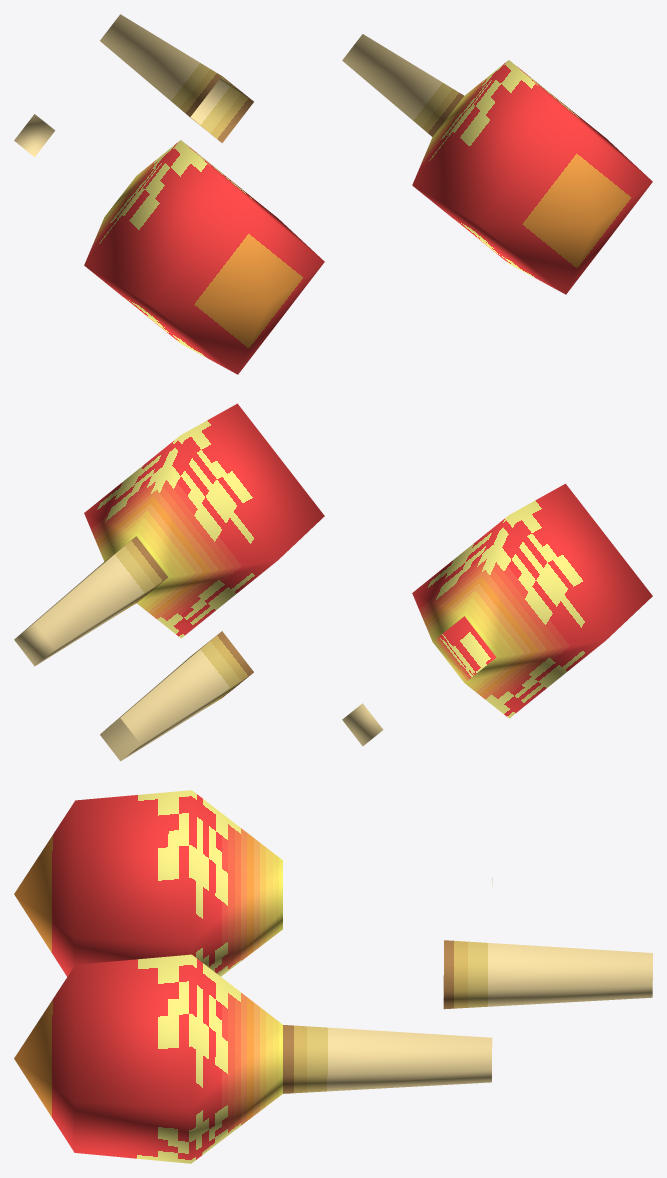
3 renders of one model, top to bottom at view 1: azimuth 30°, elevation 25°; view 2: azimuth 150°, elevation 25°; view 3: azimuth 270°, elevation 25°, orthographic. The views are drawn at different scales.
Parts seen in each view (by area): view 1: 2739gakki08_e; view 2: 2739gakki08_e; view 3: 2739gakki08_e.
Part boxes in pixels (left/top/right/bottom): 2739gakki08_e: left=14, top=14, right=652, bottom=374; 2739gakki08_e: left=14, top=403, right=652, bottom=761; 2739gakki08_e: left=14, top=790, right=652, bottom=1163.
Bounding box in the file's own units: 0.7754 × 0.2893 × 0.8005.
1 material, 1 textured.
